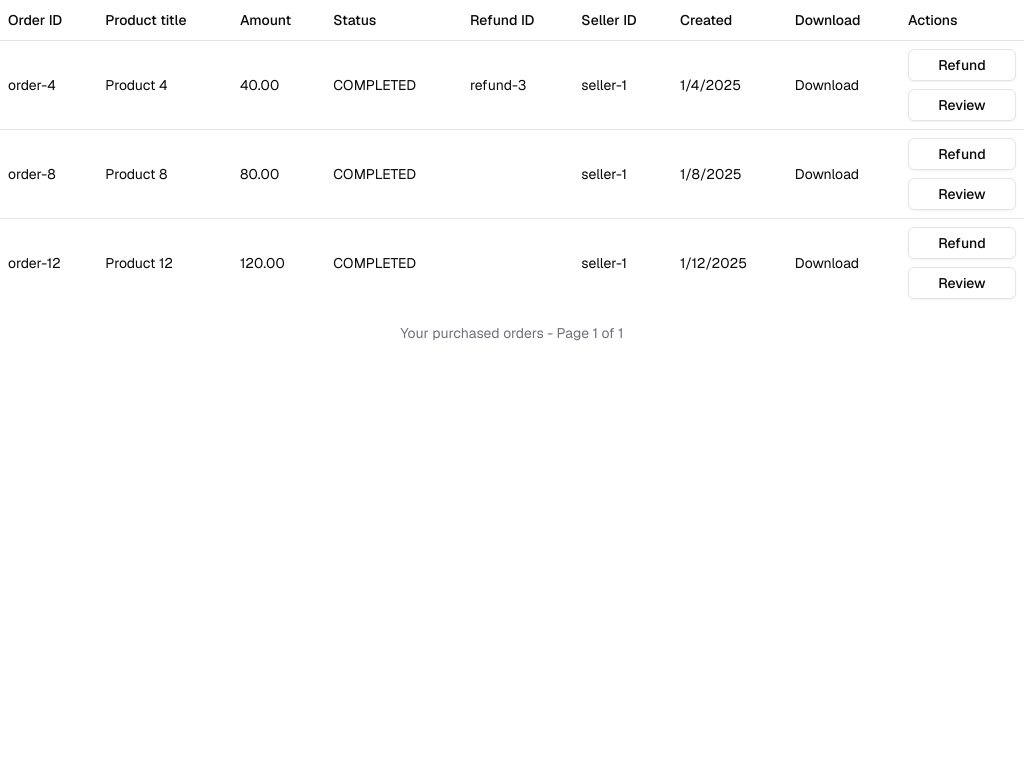
BoughtProductsTable › opens review dialog when review button is clicked
# Find and click review button
Click the button "Review" in the row of "order-4" at (962, 104), box [908,88,1016,120]
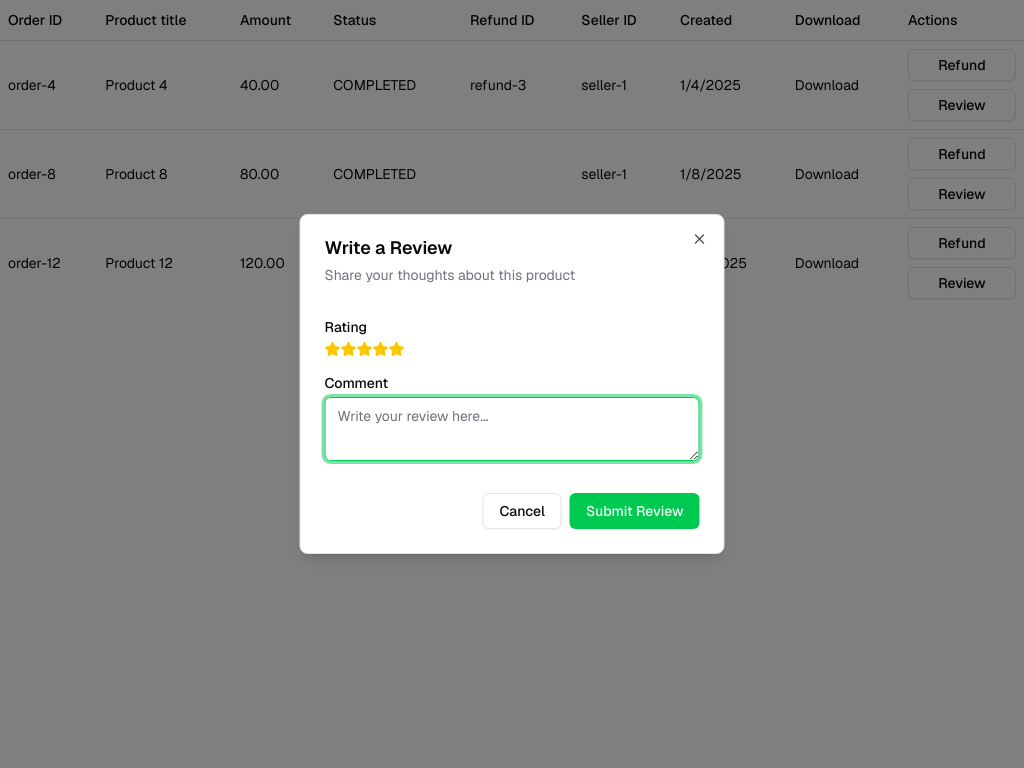
Expected: the heading "Write a Review" is shown, [324,236,452,259]
Expected: the text "Share your thoughts about this product" is shown, [324,266,575,284]
